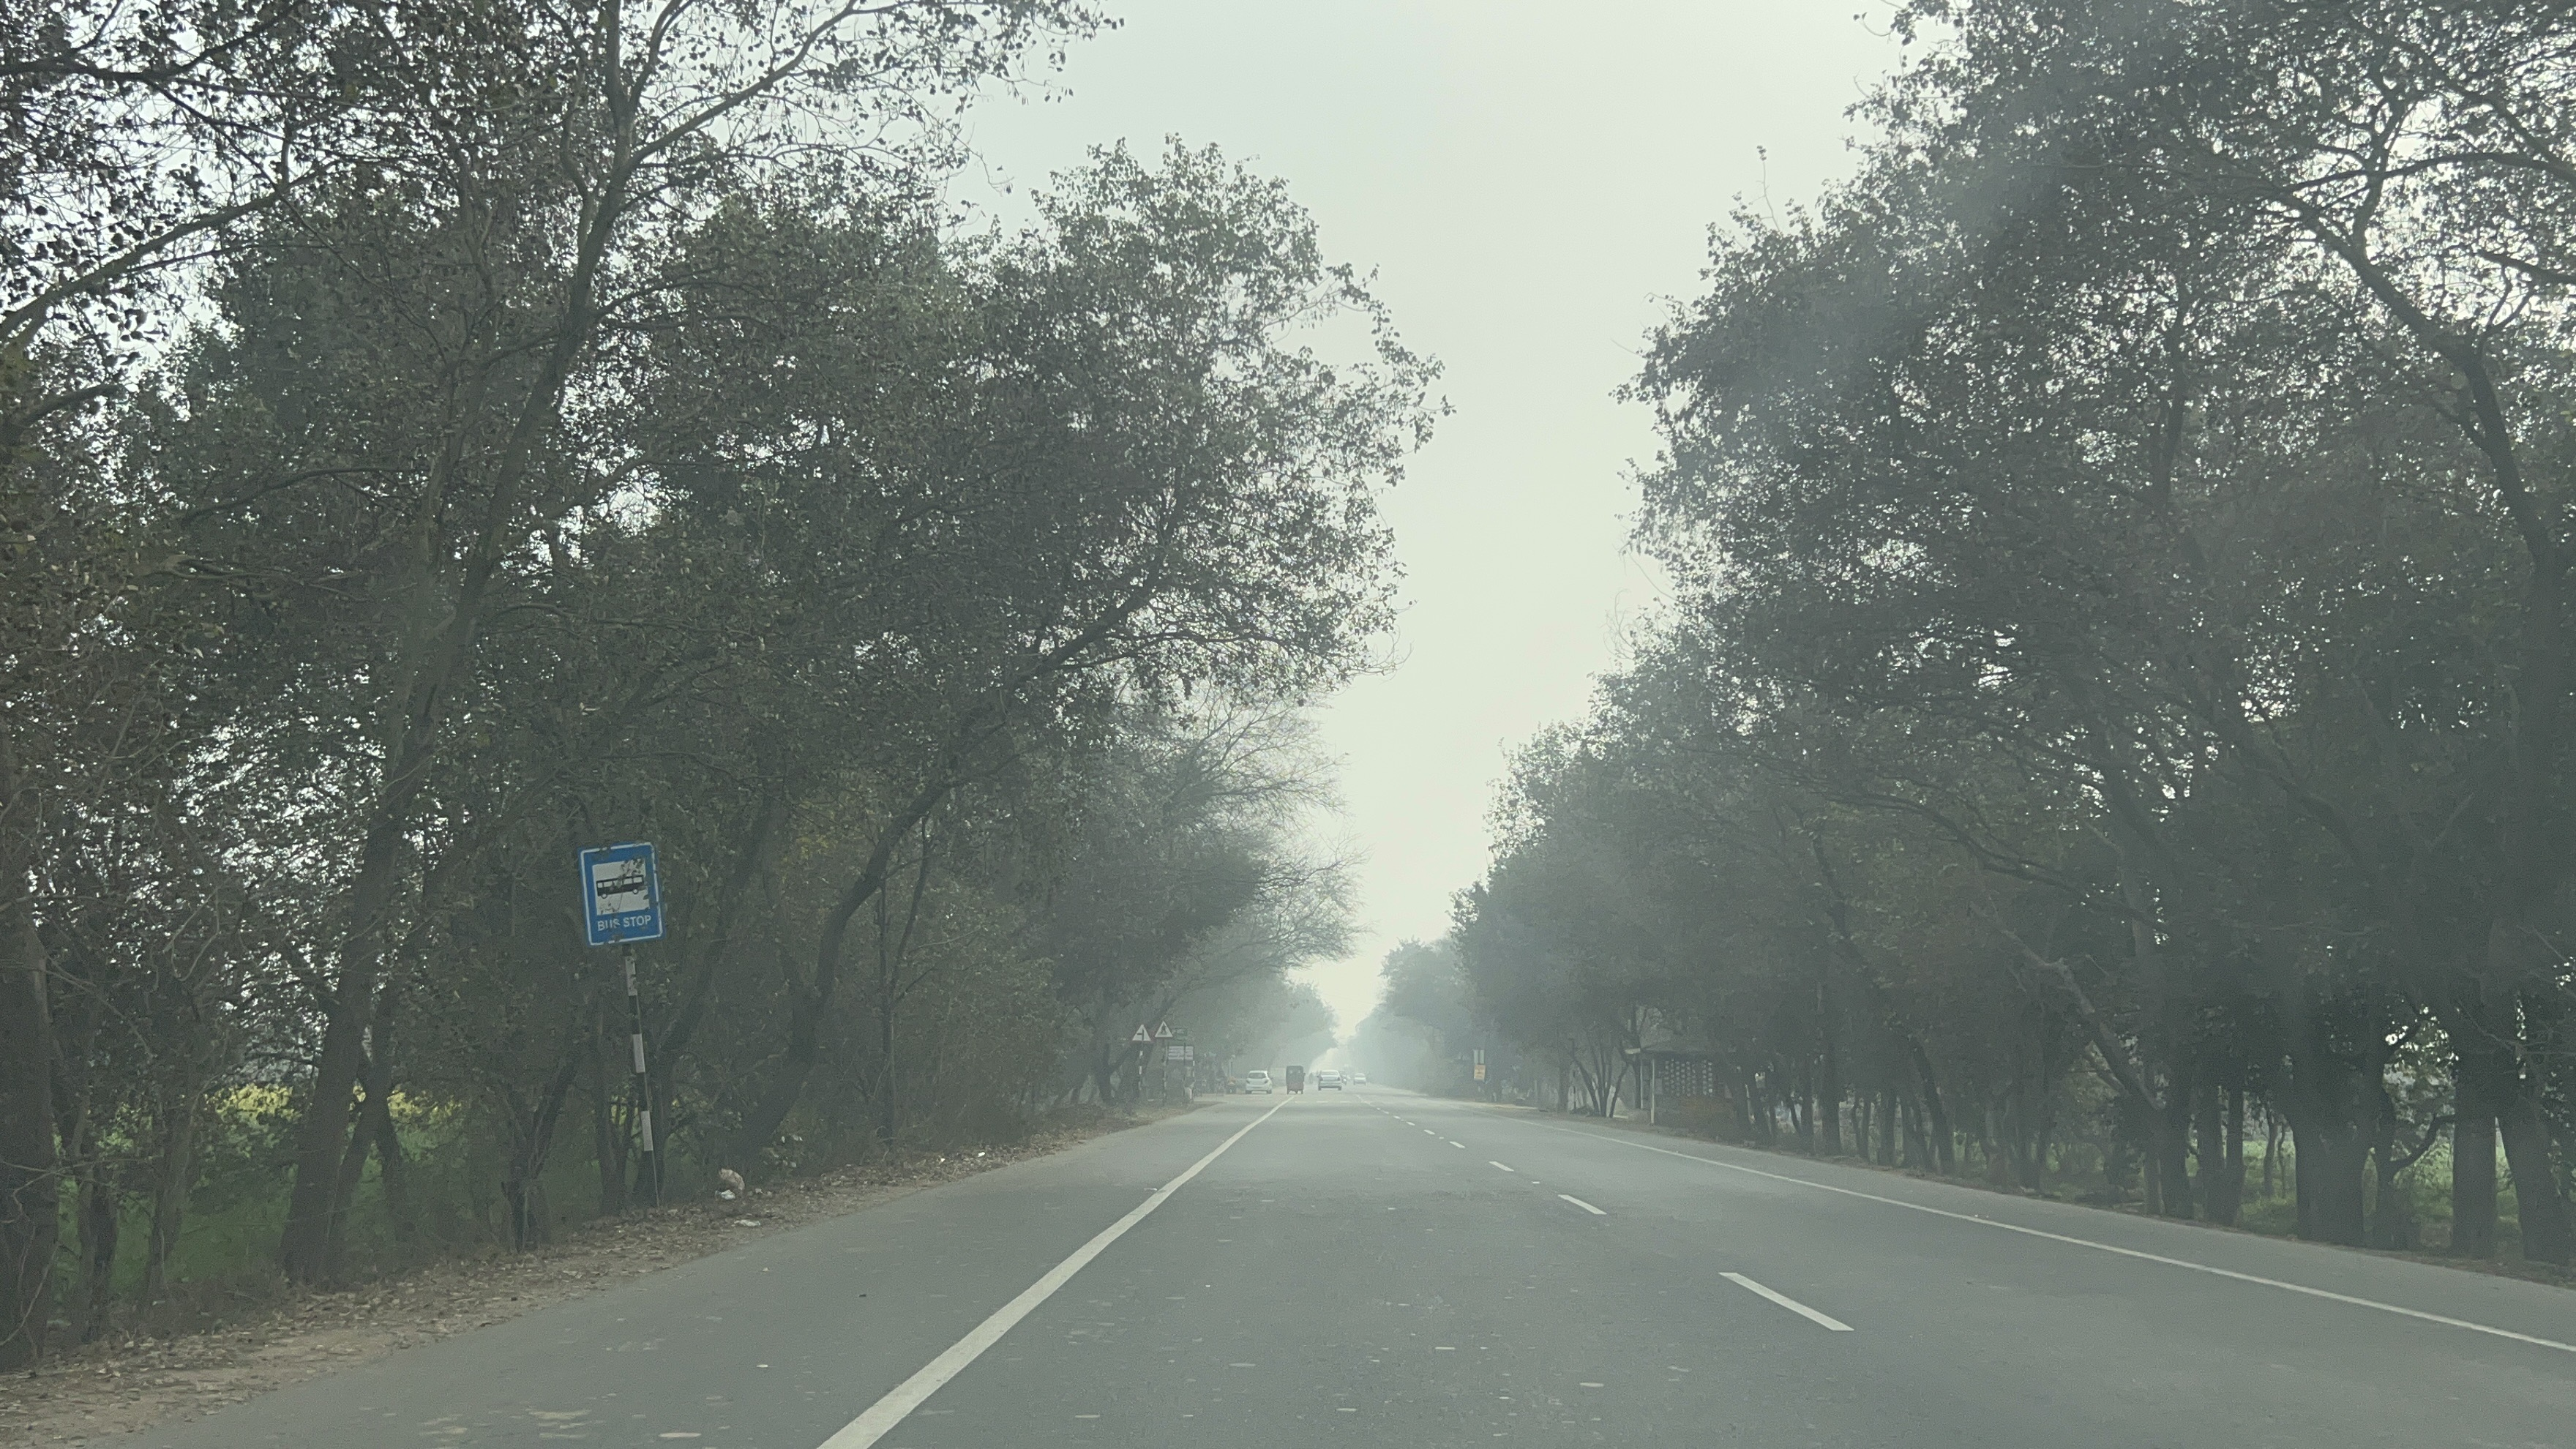Informatory: (571, 840, 685, 961)
Warning: (1127, 1010, 1161, 1049)
